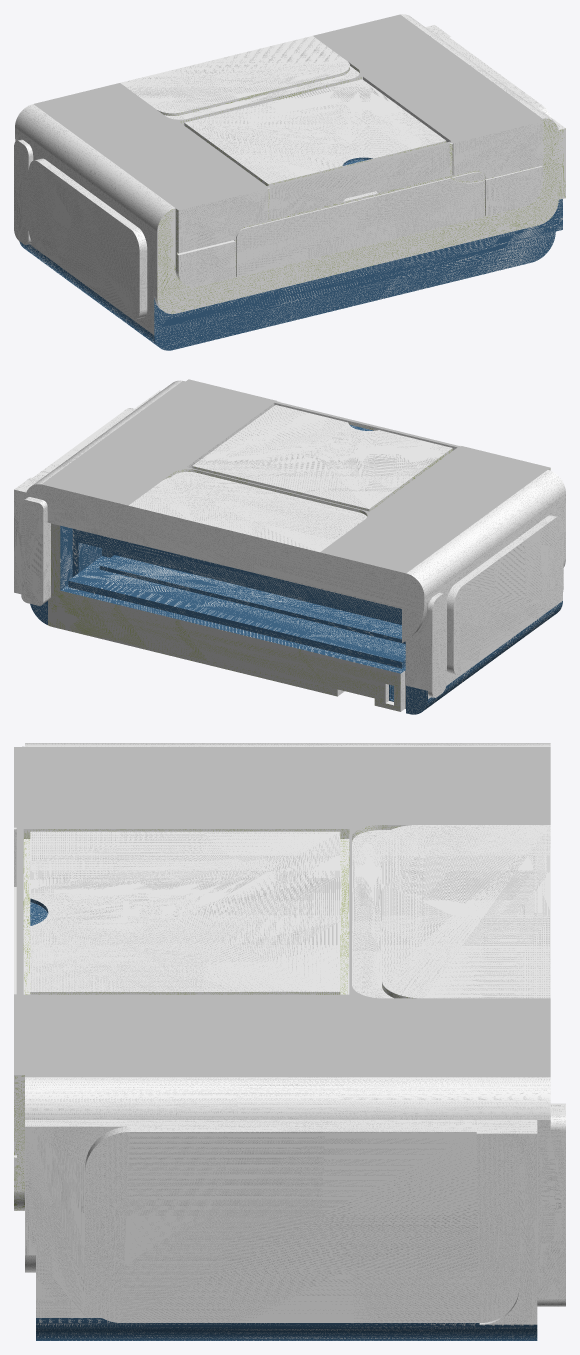
The picture shows the model from 3 angles, top to bottom: view 1: azimuth 30°, elevation 25°; view 2: azimuth 150°, elevation 25°; view 3: azimuth 270°, elevation 25°; orthographic projection. The views are drawn at different scales.
Parts seen in each view (by area): view 1: mesh1_mesh1-geometry; view 2: mesh1_mesh1-geometry; view 3: mesh1_mesh1-geometry.
Part boxes in pixels (<box>): mesh1_mesh1-geometry: <box>14,14,565,350</box>; mesh1_mesh1-geometry: <box>14,379,565,714</box>; mesh1_mesh1-geometry: <box>14,743,565,1340</box>.
Bounding box in the file's own units: 0.8223 × 0.2673 × 0.5024.
